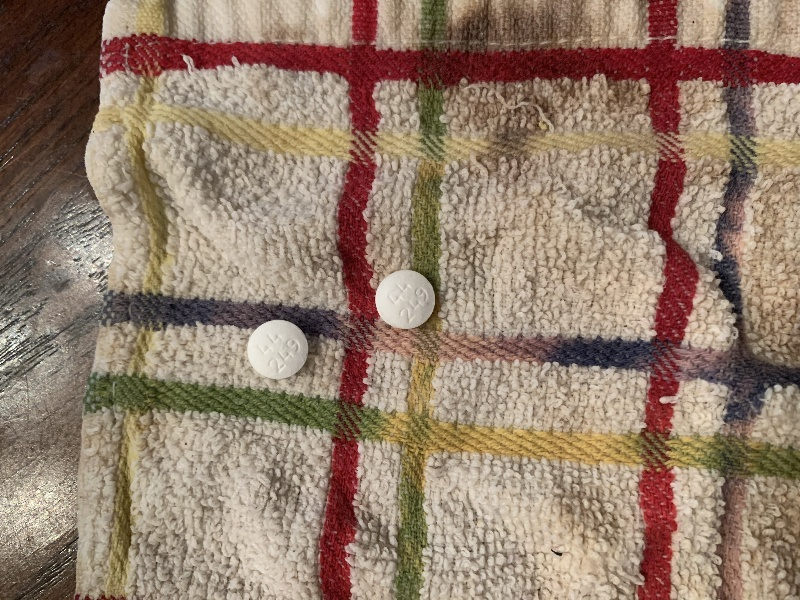Aspirin: (369, 266, 438, 333), (244, 317, 313, 383)
